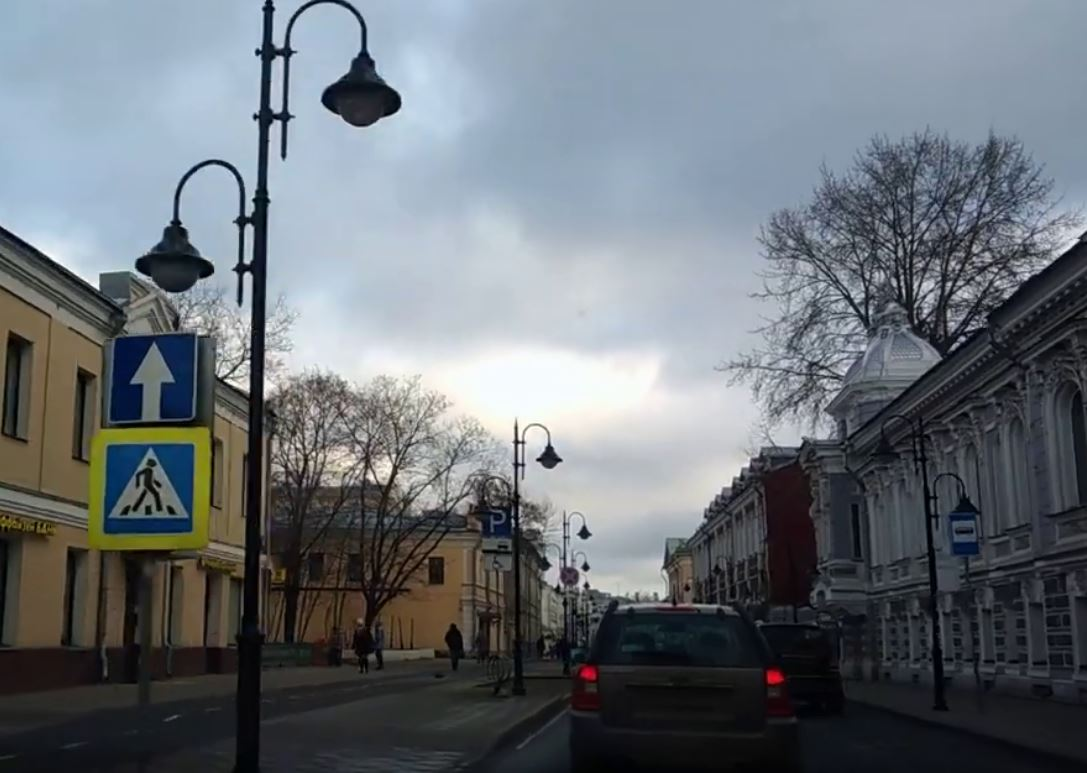Yaya Gecidi: (97, 444, 195, 540)
